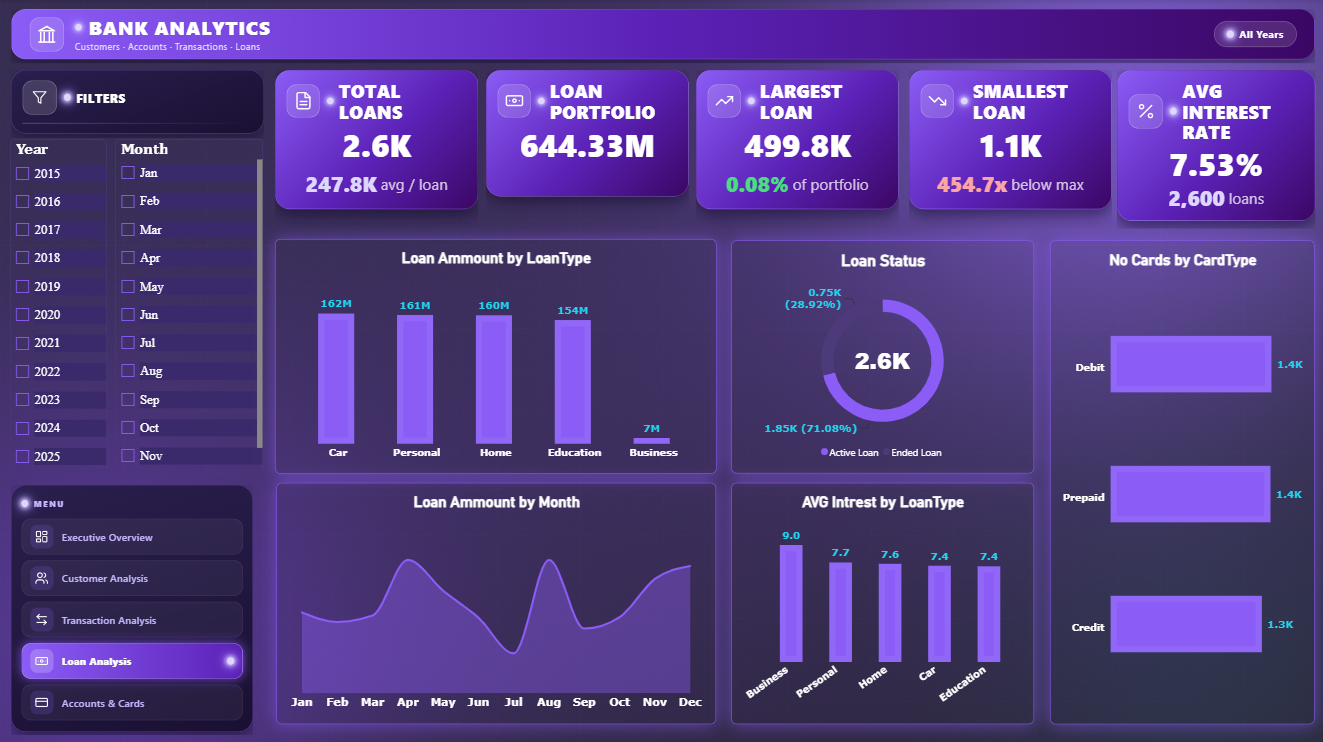

Layout of this report page (visuals, bound fields, positions):
{"tool":"powerbi","page":{"name":"Loan Analysis","canvas":[1920,1080],"ordinal":3},"visuals":[{"type":"htmlContent443BE3AD55E043BF878BED274D3A6855","fields":{"content":["HTML.Header Bank Analytics"]},"box":[0,0,1920,108.2],"z":0},{"type":"htmlContent443BE3AD55E043BF878BED274D3A6855","fields":{"content":["HTML.Panel Filters"]},"box":[0,88.7,398.1,127.4],"z":1000},{"type":"htmlContent443BE3AD55E043BF878BED274D3A6855","fields":{"content":["HTML.Nav Menu 4"]},"box":[0,688.7,382.2,391.3],"z":2000},{"type":"slicer","fields":{"Values":["Calender.Year"]},"box":[15.2,202.8,140.3,485.1],"z":3000},{"type":"actionButton","box":[34.9,802.9,321.9,62.1],"z":4000},{"type":"actionButton","box":[34.9,754.4,321.9,48.5],"z":5000},{"type":"actionButton","box":[34.9,865,321.9,58.2],"z":6000},{"type":"actionButton","box":[31,923.2,325.8,62.1],"z":7000},{"type":"actionButton","box":[34.9,996.8,321.9,46.5],"z":8000},{"type":"slicer","fields":{"Values":["Calender.Month"]},"box":[166.7,203.2,214.6,484],"z":9000},{"type":"htmlContent443BE3AD55E043BF878BED274D3A6855","fields":{"content":["Html 3.Card No Loan"]},"box":[382.2,88.7,325.3,259.3],"z":11000},{"type":"htmlContent443BE3AD55E043BF878BED274D3A6855","fields":{"content":["HTML.Card Loan Ammount"]},"box":[687,88.7,325,259.3],"z":12000},{"type":"htmlContent443BE3AD55E043BF878BED274D3A6855","fields":{"content":["Html 3.Card Max Loan"]},"box":[991.8,88.7,325,259.3],"z":13000},{"type":"htmlContent443BE3AD55E043BF878BED274D3A6855","fields":{"content":["Html 3.Card Min Loan"]},"box":[1299,88.7,325,259.3],"z":14000},{"type":"htmlContent443BE3AD55E043BF878BED274D3A6855","fields":{"content":["Html 3.Card AVG Interest"]},"box":[1601,88.7,319,259],"z":15000},{"type":"clusteredColumnChart","fields":{"Category":["Loans.LoanType"],"Y":["Calc Executive Overview.Loan Ammount"]},"box":[397.2,347,639.2,340.2],"z":16000},{"type":"donutChart","title":"Loan Status","fields":{"Category":["Loans.Loan Status"],"Y":["CountNonNull(Loans.Loan Status)"]},"box":[1059.3,349.3,438.3,337.9],"z":17000},{"type":"lineChart","fields":{"Category":["Calender.Month"],"Y":["Calc Executive Overview.Loan Ammount"]},"box":[399.5,700.9,637,349.3],"z":18000},{"type":"clusteredBarChart","fields":{"Category":["Cards.CardType"],"Y":["Calc Loan Analysis.No Cards"]},"box":[1520.5,349.3,383.5,700.9],"z":19000},{"type":"clusteredColumnChart","fields":{"Category":["Loans.LoanType"],"Y":["Calc Loan Analysis.AVG Intrest"]},"box":[1059.3,700.9,438.3,349.3],"z":20000}]}

Visuals, with their boxes in screenshot pixels (x1, y1, x2, y2), scaled from the page's 1920x1080 canvas onto the 1323x742 screenshot:
htmlContent443BE3AD55E043BF878BED274D3A6855 - HTML.Header Bank Analytics: BBox(0, 0, 1322, 74)
htmlContent443BE3AD55E043BF878BED274D3A6855 - HTML.Panel Filters: BBox(0, 61, 274, 148)
htmlContent443BE3AD55E043BF878BED274D3A6855 - HTML.Nav Menu 4: BBox(0, 473, 263, 741)
slicer - Calender.Year: BBox(10, 139, 107, 473)
actionButton: BBox(24, 552, 246, 594)
actionButton: BBox(24, 518, 246, 552)
actionButton: BBox(24, 594, 246, 634)
actionButton: BBox(21, 634, 246, 677)
actionButton: BBox(24, 685, 246, 717)
slicer - Calender.Month: BBox(115, 140, 263, 472)
htmlContent443BE3AD55E043BF878BED274D3A6855 - Html 3.Card No Loan: BBox(263, 61, 488, 239)
htmlContent443BE3AD55E043BF878BED274D3A6855 - HTML.Card Loan Ammount: BBox(473, 61, 697, 239)
htmlContent443BE3AD55E043BF878BED274D3A6855 - Html 3.Card Max Loan: BBox(683, 61, 907, 239)
htmlContent443BE3AD55E043BF878BED274D3A6855 - Html 3.Card Min Loan: BBox(895, 61, 1119, 239)
htmlContent443BE3AD55E043BF878BED274D3A6855 - Html 3.Card AVG Interest: BBox(1103, 61, 1322, 239)
clusteredColumnChart - Loans.LoanType x Calc Executive Overview.Loan Ammount: BBox(274, 238, 714, 472)
"Loan Status" donutChart: BBox(730, 240, 1032, 472)
lineChart - Calender.Month x Calc Executive Overview.Loan Ammount: BBox(275, 482, 714, 722)
clusteredBarChart - Cards.CardType x Calc Loan Analysis.No Cards: BBox(1048, 240, 1312, 722)
clusteredColumnChart - Loans.LoanType x Calc Loan Analysis.AVG Intrest: BBox(730, 482, 1032, 722)
